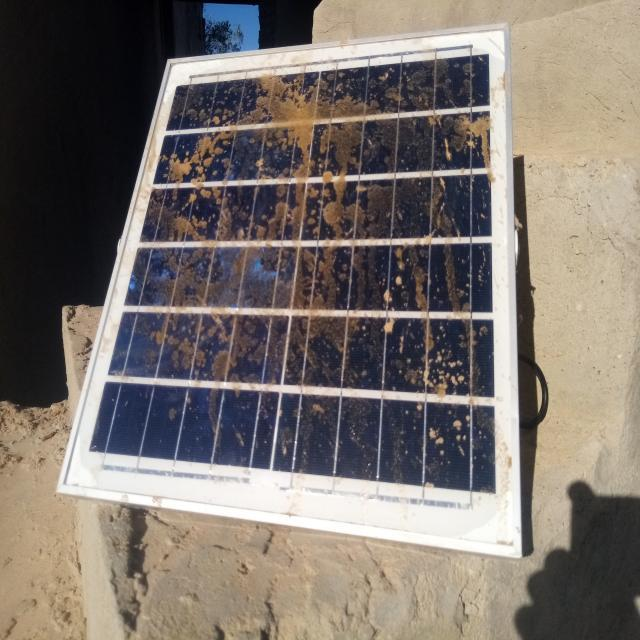faulty: (55, 33, 523, 554)
